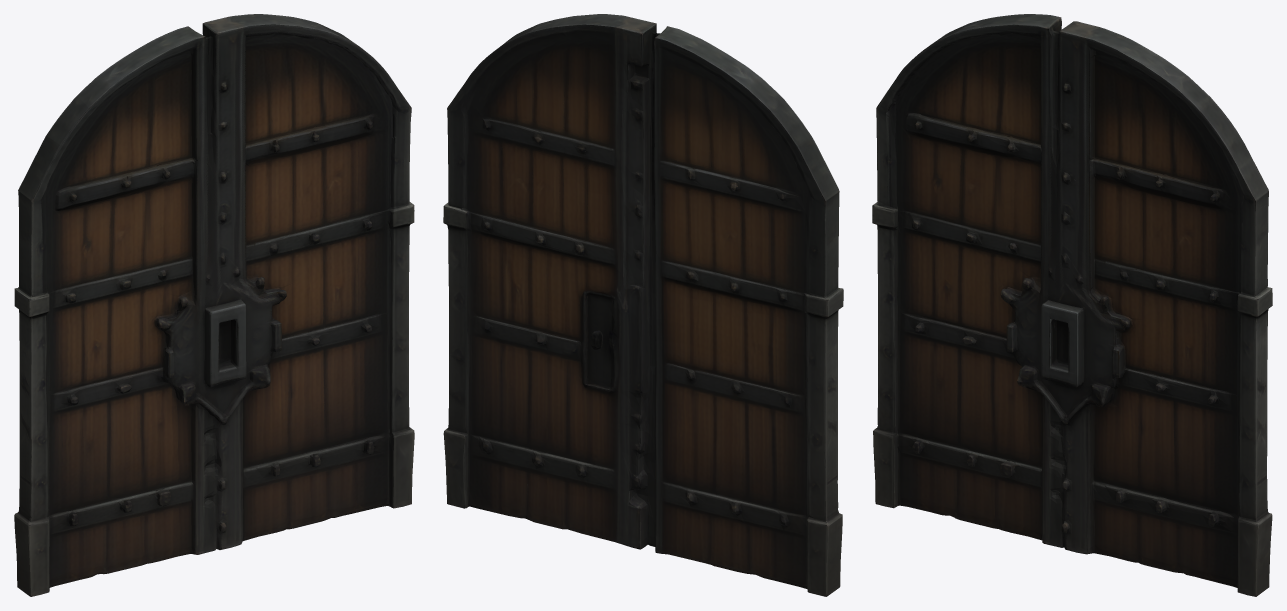
Rendered from gate.glb.
The picture shows the model from 3 angles, left to right: view 1: azimuth 30°, elevation 25°; view 2: azimuth 150°, elevation 25°; view 3: azimuth 330°, elevation 25°; orthographic projection.
Parts seen in each view (by area): view 1: geometry_0; view 2: geometry_0; view 3: geometry_0.
Part boxes in pixels (x1,y1,x2,y2): geometry_0: [14, 14, 414, 596]; geometry_0: [443, 14, 843, 596]; geometry_0: [872, 14, 1272, 596].
Size of the model in its own units: 0.7784 by 1 by 0.1064.
1 material, 1 textured.
